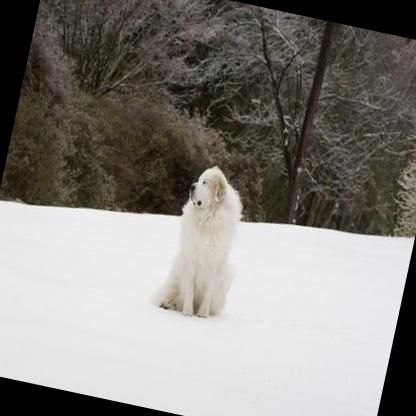Great_Pyrenees: (144, 154, 256, 328)
